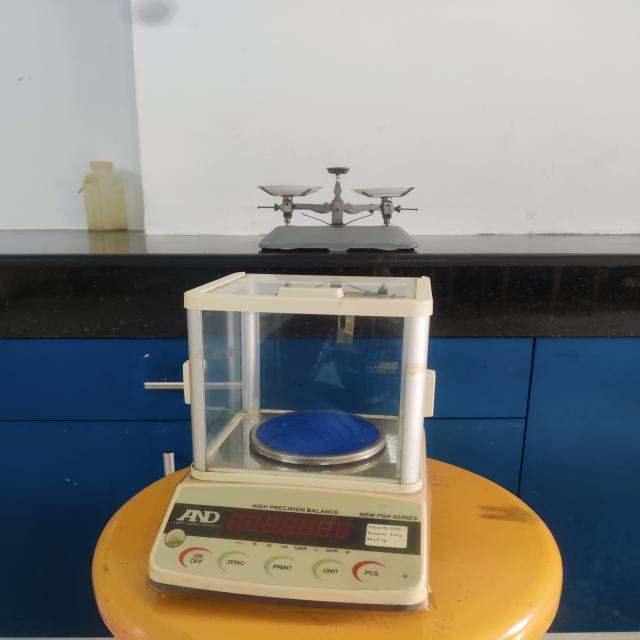Mechanical_Balance_Scale: (227, 149, 454, 265)
Precision_Weight_Scale: (107, 256, 482, 630)
